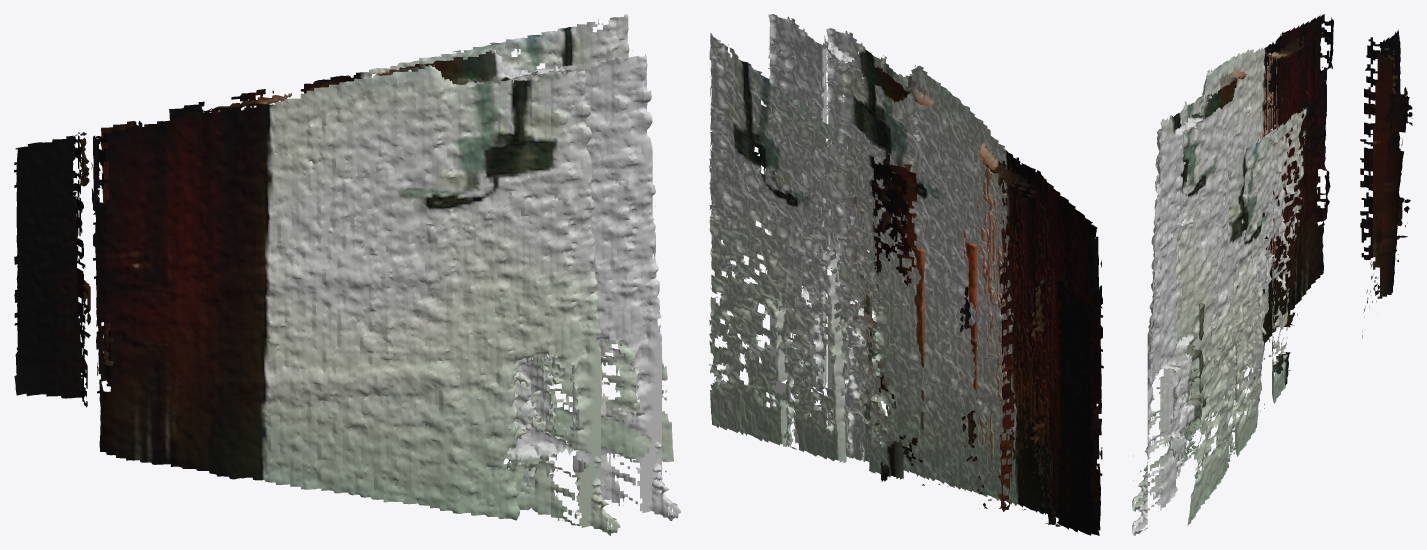
The model's file is fused_mesh_20260309_172644.obj.
The picture shows the model from 3 angles, left to right: view 1: azimuth 30°, elevation 25°; view 2: azimuth 150°, elevation 25°; view 3: azimuth 270°, elevation 25°; orthographic projection. The views are drawn at different scales.
Bounding box in the file's own units: 1.32 × 1.11 × 0.7314.
